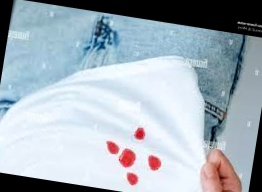blood: (118, 148, 138, 168), (147, 155, 163, 172), (105, 141, 121, 156), (125, 171, 139, 186), (134, 127, 146, 141)
